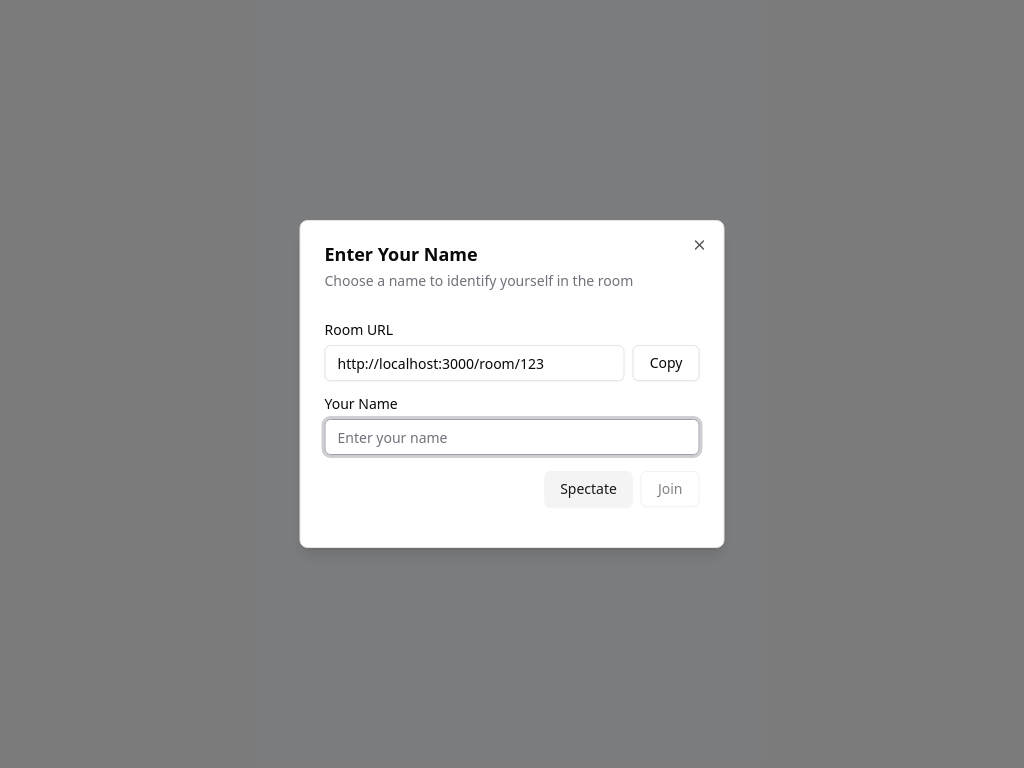
Test: NameModal › validates name input for alphanumeric characters and spaces
Note: Test invalid character
Type "John@Doe" into the field labelled "Your Name". click: [512, 437]
box: [324, 419, 700, 455]
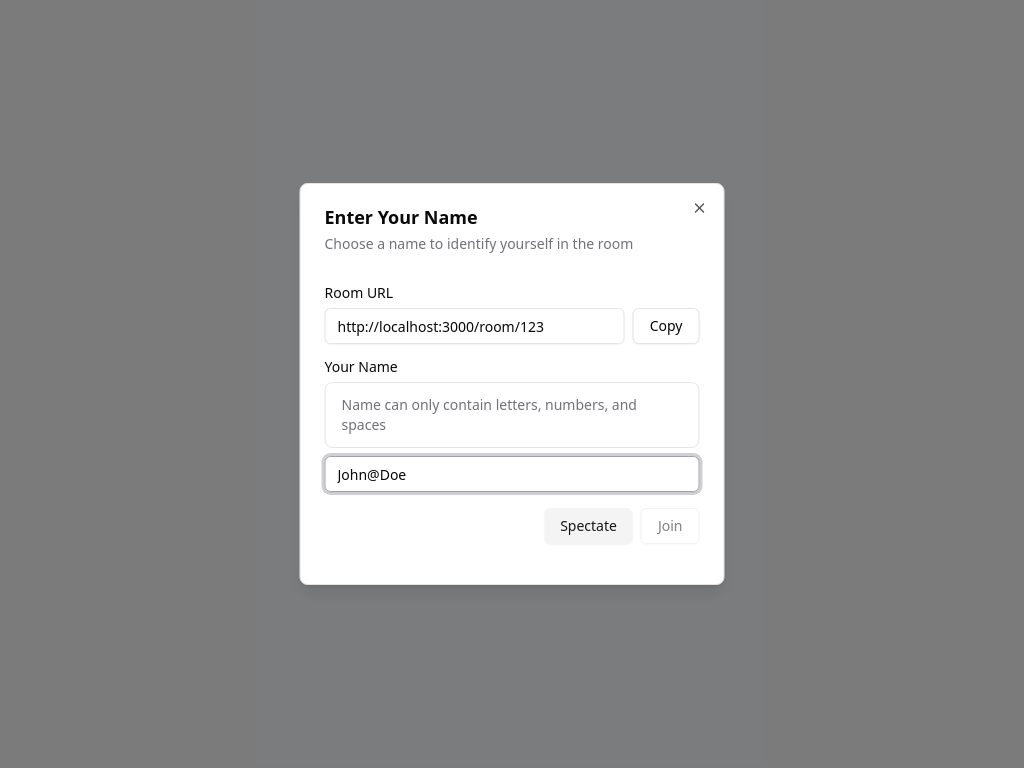
Check: the button "Join" is disabled, box [641, 508, 700, 544]
Check: the text "Name can only contain letters, numbers, and spaces" is shown, box [342, 395, 682, 435]
Note: Test valid input
Replace the text in the field labelled "Your Name" with "John Doe". click: [512, 474]
box: [324, 456, 700, 492]
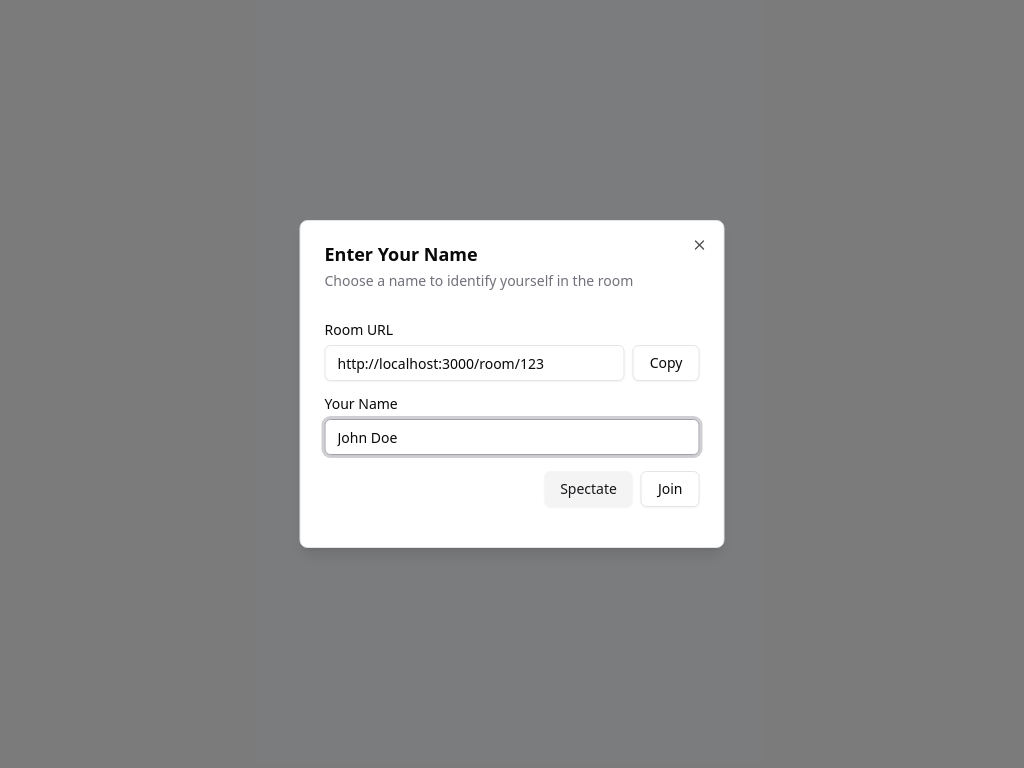
Check: the text "Name can only contain letters, numbers, and spaces" is gone
